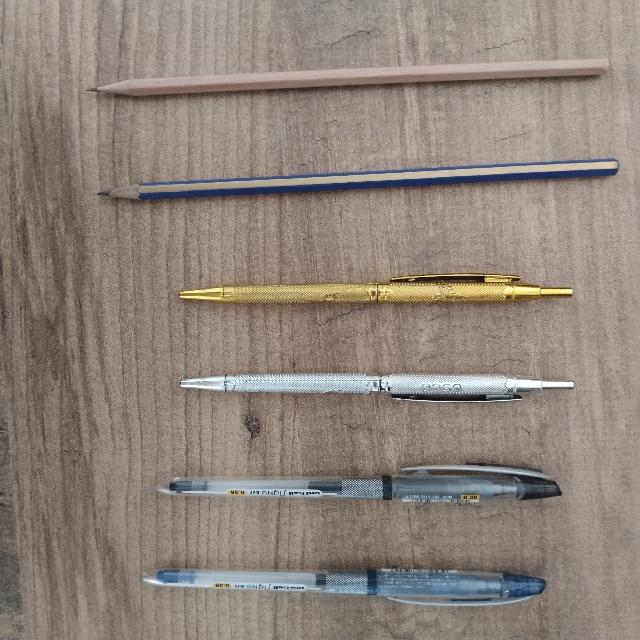pen: (157, 463, 561, 503), (143, 569, 545, 605)
pencil: (99, 158, 617, 199), (90, 59, 608, 95)
signature pen: (180, 273, 572, 302), (181, 373, 573, 401)
